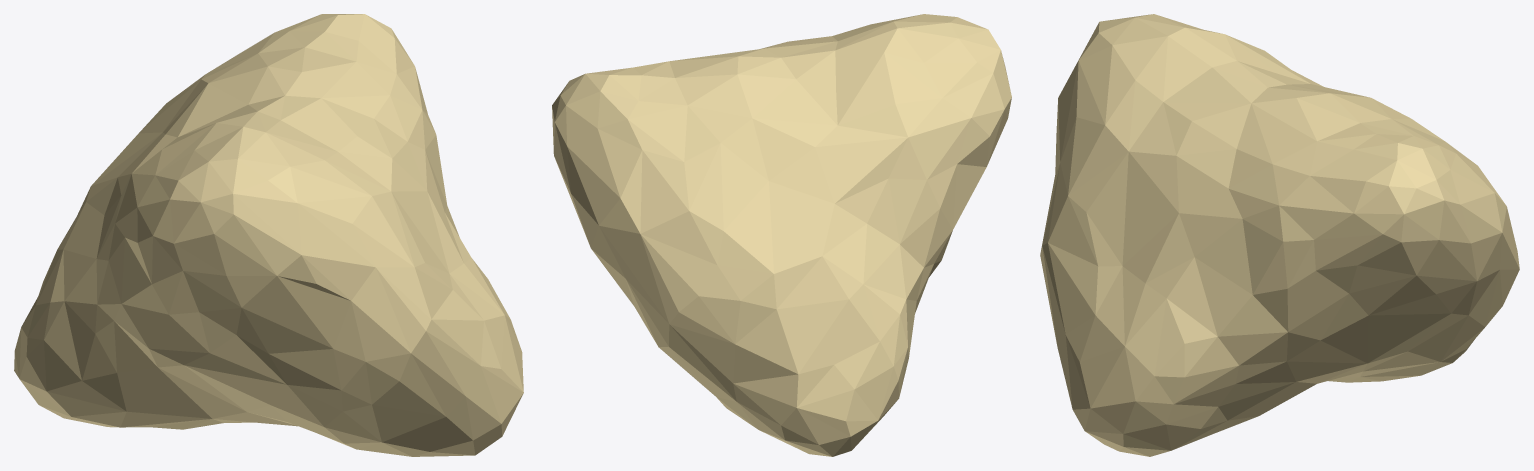
Rendered from Asteroid (36).fbx.
3 renders of one model, left to right at view 1: azimuth 30°, elevation 25°; view 2: azimuth 150°, elevation 25°; view 3: azimuth 270°, elevation 25°, orthographic. The views are drawn at different scales.
Parts seen in each view (by area): view 1: Asteroid130; view 2: Asteroid130; view 3: Asteroid130.
Boxes of the visible parts, x1,y1,x2,y2 form: Asteroid130: (14, 14, 523, 456); Asteroid130: (552, 14, 1011, 456); Asteroid130: (1040, 14, 1519, 456).
Size of the model in its own units: 210 by 195 by 242.
